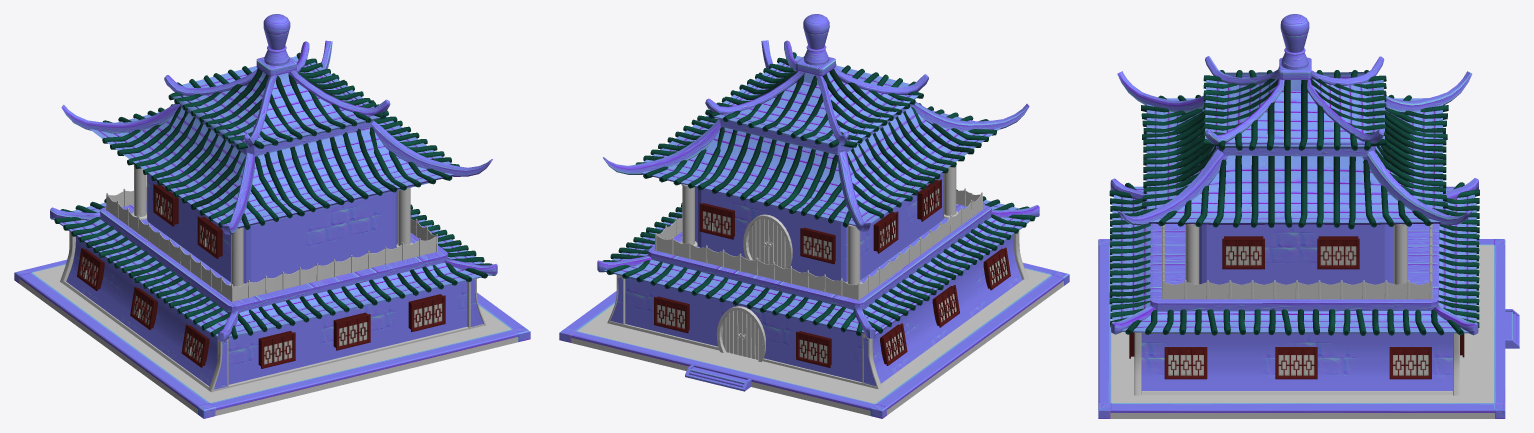
File: Building04_v7.fbx
3 renders of one model, left to right at view 1: azimuth 30°, elevation 25°; view 2: azimuth 150°, elevation 25°; view 3: azimuth 270°, elevation 25°, orthographic. The views are drawn at different scales.
Parts seen in each view (by area): view 1: Building04, Groundwork, wooden_strip; view 2: Building04, Groundwork, wooden_strip; view 3: Building04, Groundwork, wooden_strip.
Boxes of the visible parts, x1=… form: Building04: x1=50, y1=14, x2=497, y2=392; Groundwork: x1=14, y1=259, x2=530, y2=418; wooden_strip: x1=63, y1=281, x2=484, y2=391; Building04: x1=597, y1=14, x2=1039, y2=389; Groundwork: x1=559, y1=263, x2=1069, y2=418; wooden_strip: x1=609, y1=279, x2=1025, y2=388; Building04: x1=1109, y1=14, x2=1479, y2=395; Groundwork: x1=1098, y1=239, x2=1519, y2=418; wooden_strip: x1=1141, y1=391, x2=1452, y2=394.
Size of the model in its own units: 1895 by 1637 by 1970.
